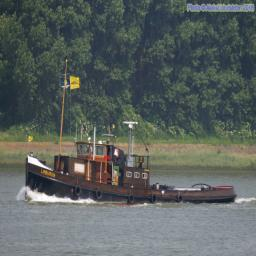tugboat: (25, 59, 240, 210)
